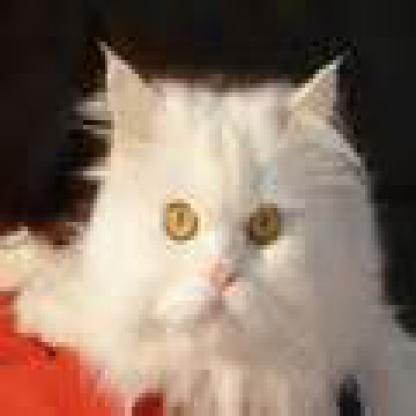cat: (0, 47, 413, 412)
